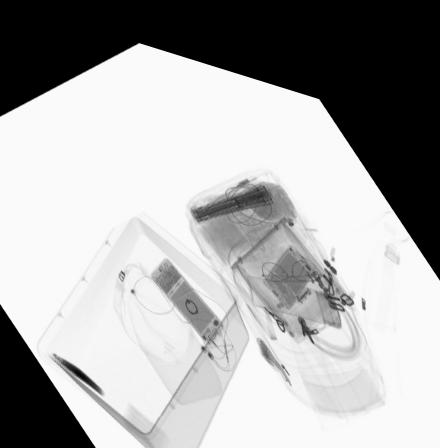Powerbank: (48, 348, 104, 388)
